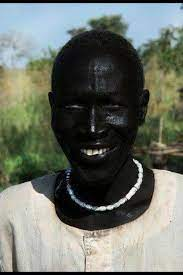s.black: (52, 87, 129, 123)
